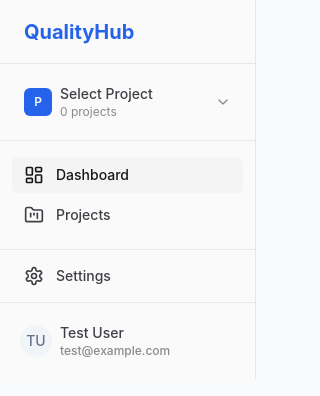
Test: Sidebar › Empty State › should show "No projects yet" message in dropdown when empty
Click the button "P Select Project 0 projects".
click(128, 102)  # box [12, 76, 243, 128]
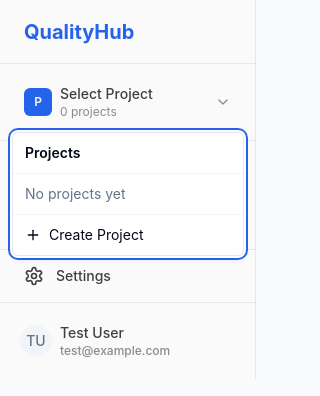
expect the text "No projects yet" is shown: met, box [25, 185, 126, 202]
